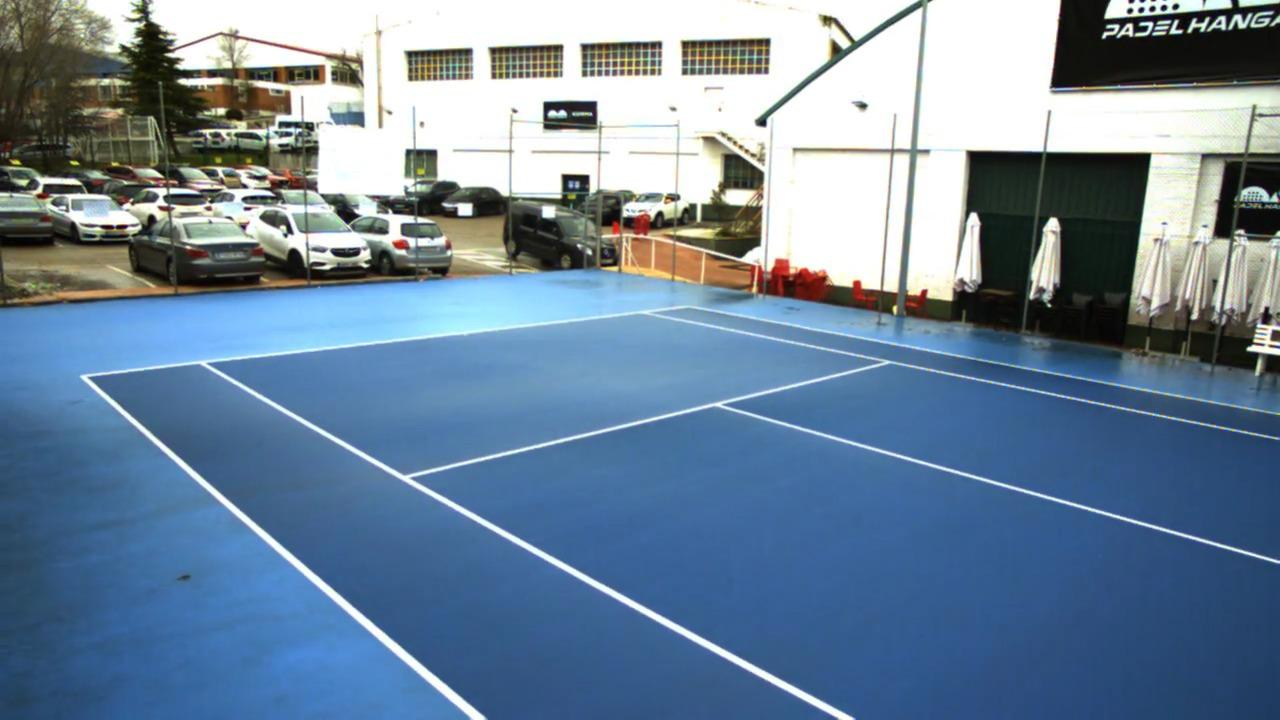cancha_tenis: (205, 310, 1280, 720)
point_f1: (194, 349, 219, 377)
point_f2: (630, 304, 659, 324)
point_fc1: (457, 324, 475, 342)
point_i1: (395, 460, 425, 494)
point_i2: (872, 350, 901, 375)
point_ic1: (706, 392, 732, 419)
